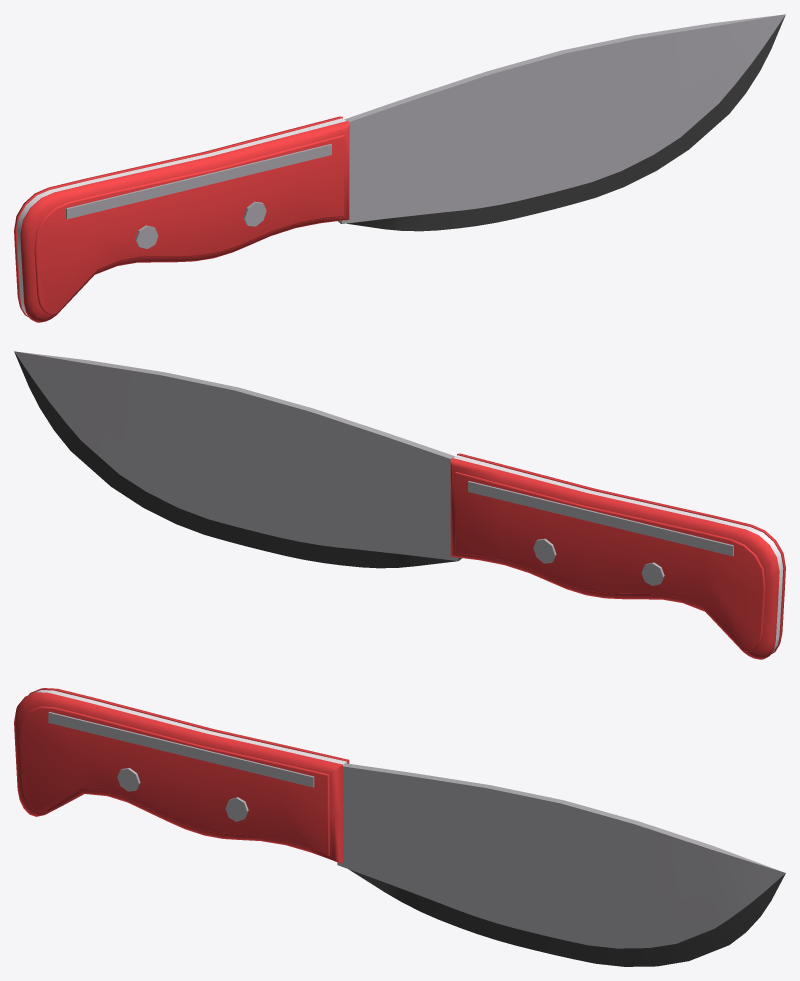
File: Knife.fbx
3 renders of one model, top to bottom at view 1: azimuth 30°, elevation 25°; view 2: azimuth 150°, elevation 25°; view 3: azimuth 330°, elevation 25°, orthographic.
Visible parts, largest first — view 1: Knife; view 2: Knife; view 3: Knife.
Part boxes in pixels (left/top/right/bottom): Knife: left=14, top=14, right=785, bottom=322; Knife: left=14, top=351, right=785, bottom=659; Knife: left=14, top=688, right=785, bottom=966.
Size of the model in its own units: 470 by 90.66 by 20.7.
